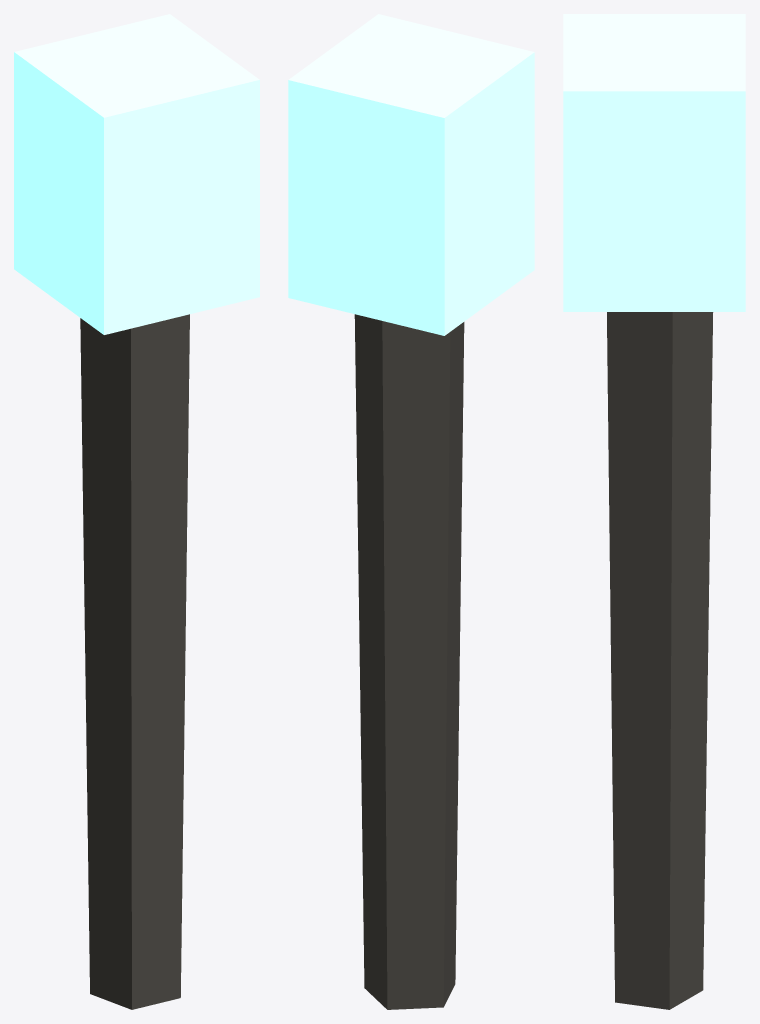
Rendered from s2_first_lantern.glb.
3 views of the same model, side by side, from view 1: azimuth 30°, elevation 25°; view 2: azimuth 150°, elevation 25°; view 3: azimuth 270°, elevation 25° (orthographic).
Visible parts, largest first — view 1: s2_first_lantern; view 2: s2_first_lantern; view 3: s2_first_lantern.
Part boxes in pixels (x1,y1,x2,y2): s2_first_lantern: (14,14,259,1009); s2_first_lantern: (288,14,534,1009); s2_first_lantern: (563,14,745,1009).
Bounding box in the file's own units: 0.3 × 1.7 × 0.3.
